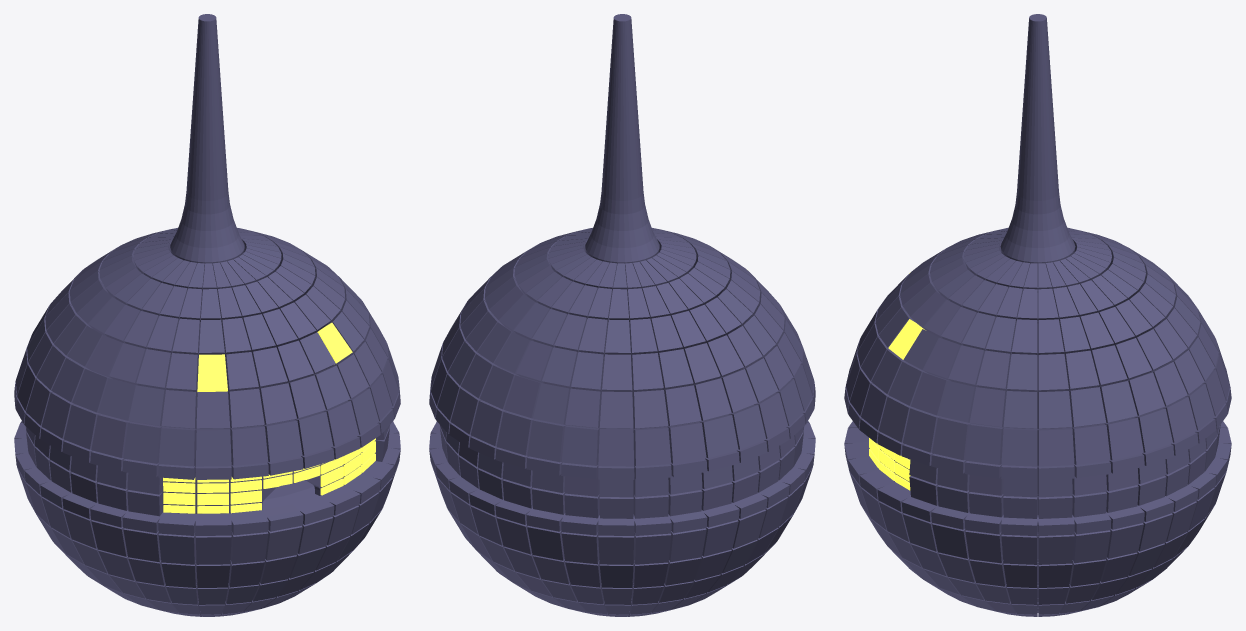
The model's file is SetpieceAlien 1.fbx.
3 renders of one model, left to right at view 1: azimuth 30°, elevation 25°; view 2: azimuth 150°, elevation 25°; view 3: azimuth 270°, elevation 25°, orthographic.
Parts seen in each view (by area): view 1: Sphere; view 2: Sphere; view 3: Sphere.
Part boxes in pixels (x1,y1,x2,y2): Sphere: [14, 14, 400, 616]; Sphere: [429, 14, 815, 616]; Sphere: [844, 14, 1231, 616].
Size of the model in its own units: 5458 by 8984 by 5458.
